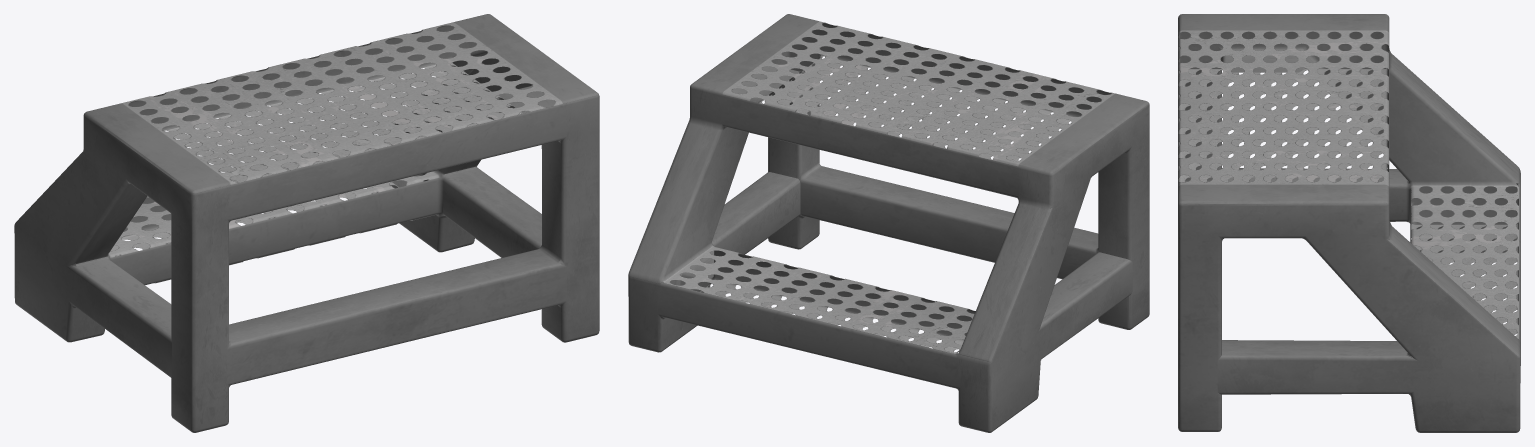
File: Trapje.fbx
The picture shows the model from 3 angles, left to right: view 1: azimuth 30°, elevation 25°; view 2: azimuth 150°, elevation 25°; view 3: azimuth 270°, elevation 25°; orthographic projection. The views are drawn at different scales.
Parts seen in each view (by area): view 1: Cube; view 2: Cube; view 3: Cube.
Boxes of the visible parts, x1,y1,x2,y2 form: Cube: [14, 14, 599, 432]; Cube: [628, 14, 1149, 432]; Cube: [1178, 14, 1520, 432].
Bounding box in the file's own units: 1049 × 598 × 801.
